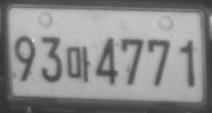1: (177, 39, 201, 88)
3: (40, 35, 63, 82)
4: (94, 37, 119, 85)
7: (146, 38, 172, 87), (120, 37, 144, 85)
9: (13, 35, 37, 82)
마: (65, 45, 91, 83)
